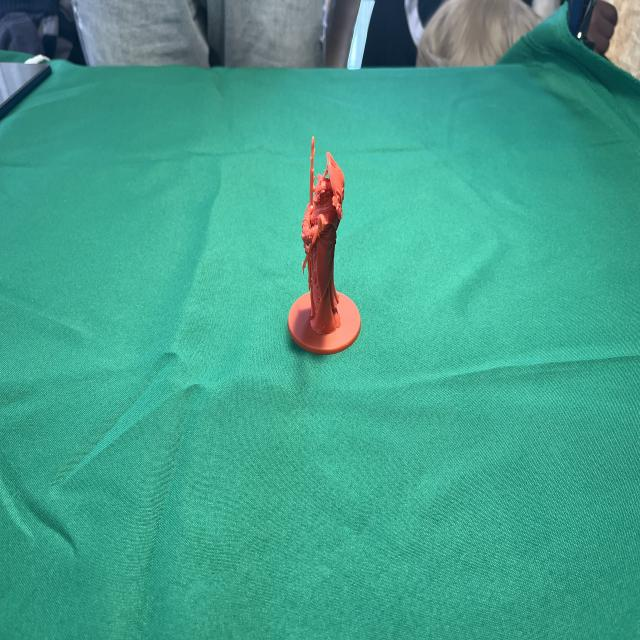amon: (286, 128, 362, 356)
